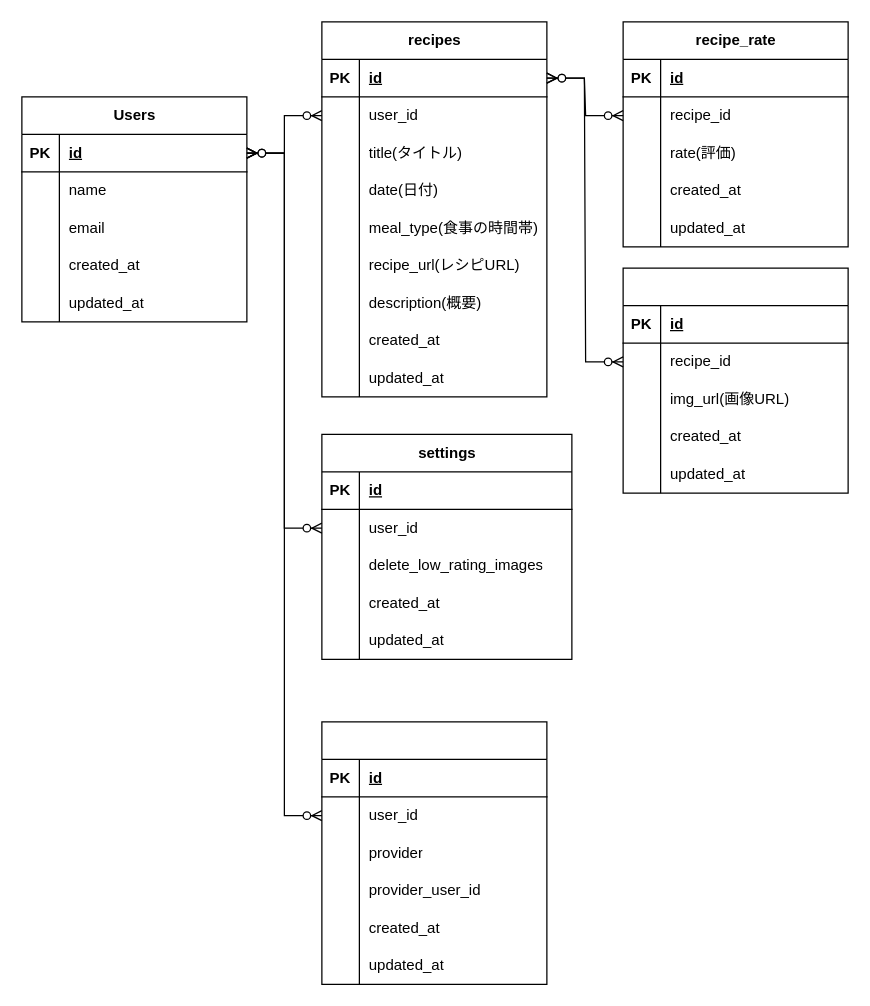
Some shapes in this 870 by 1006 pixel diagram are drawn without their labels. Here are the shapes that lost their labels. From the top down, the box of each, then its label:
(622, 267, 848, 493): recipe_assets
(321, 721, 547, 984): social_accounts
